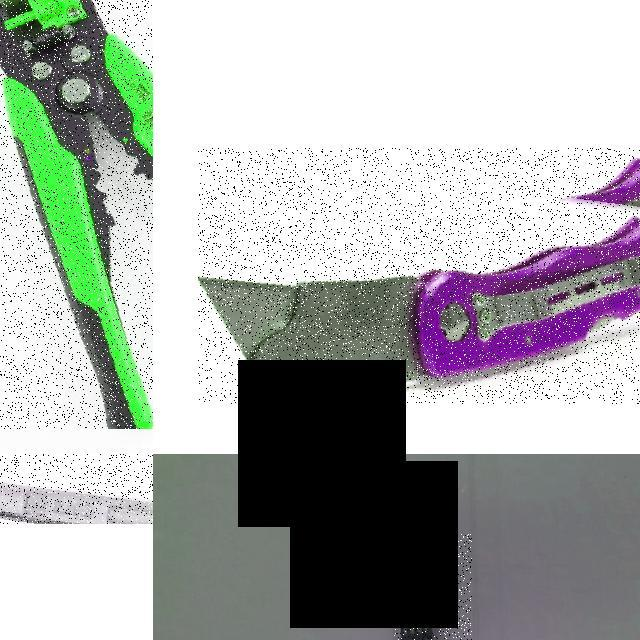estilete: (200, 218, 639, 391)
